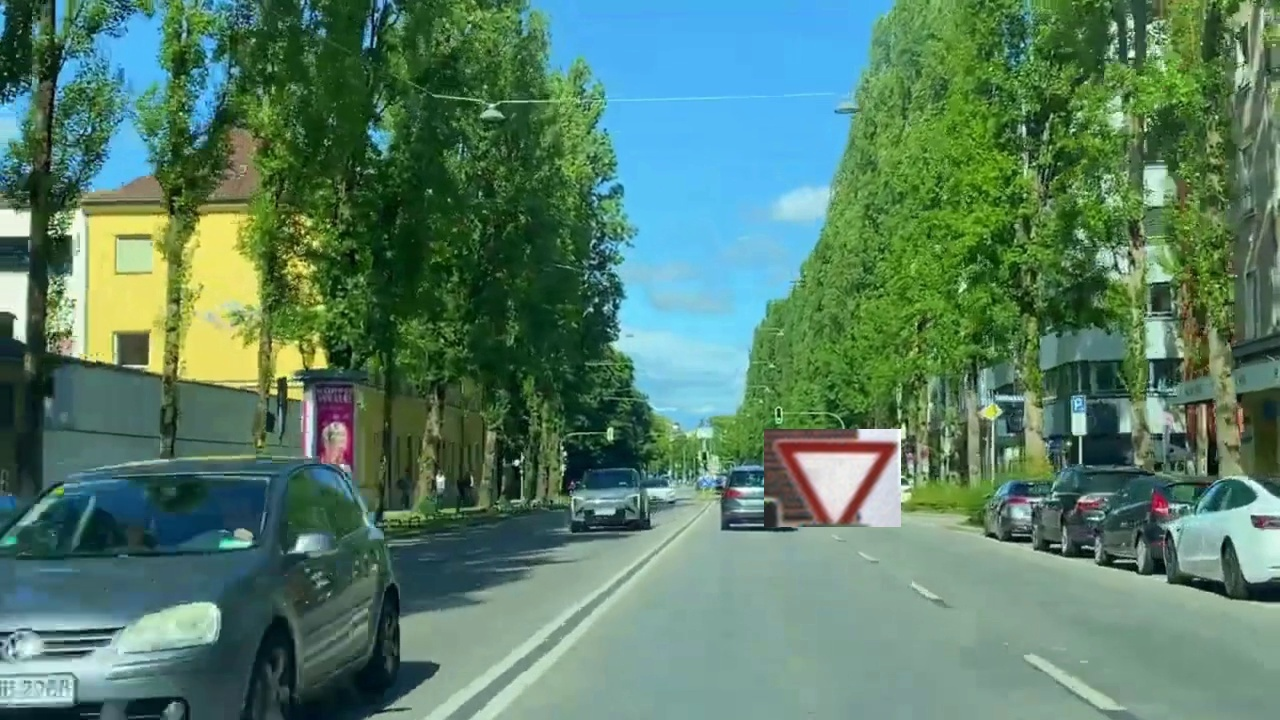Yield: (764, 429, 901, 527)
